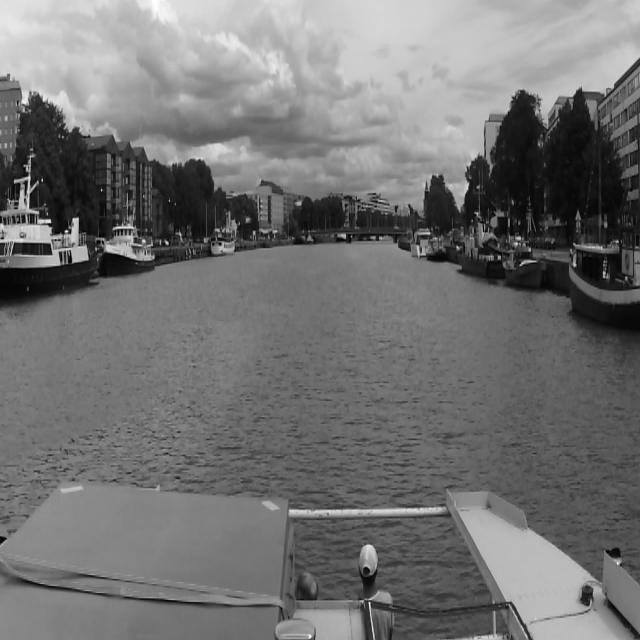ship: (0, 143, 98, 296), (571, 241, 640, 325), (103, 188, 156, 276), (504, 243, 546, 290), (212, 233, 236, 261), (410, 228, 428, 252), (304, 226, 314, 247), (296, 229, 306, 243)
